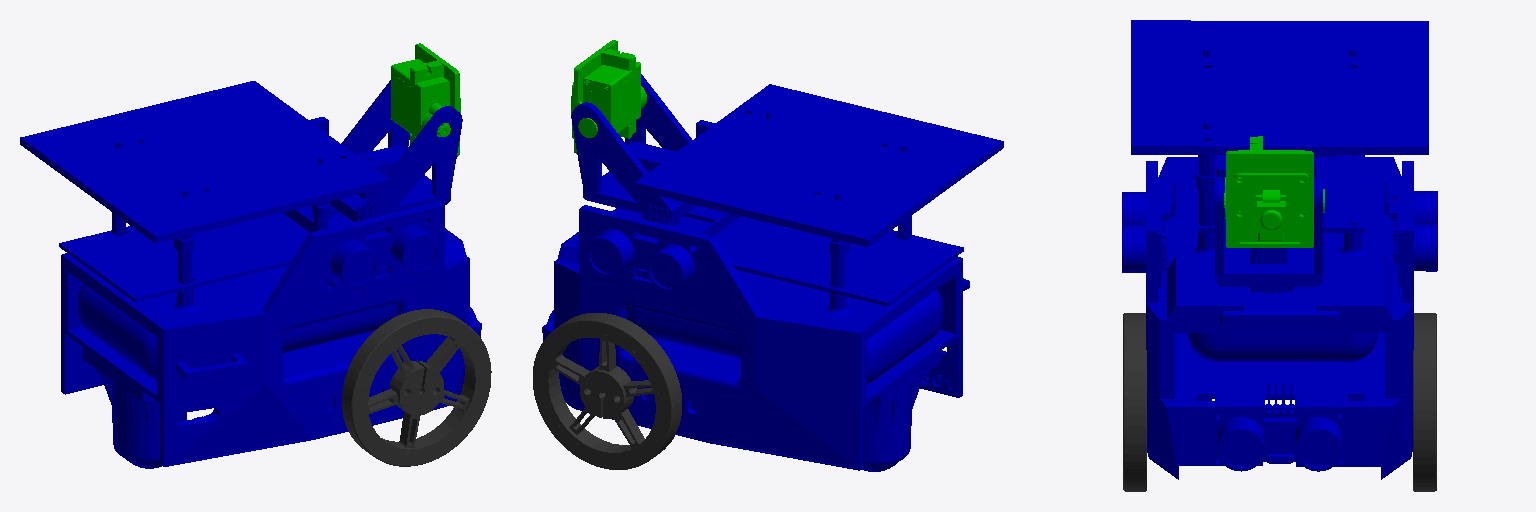
The robot description file, URDF, robot "raspuma":
<?xml version="1.0" encoding="utf-8"?>
<!-- This URDF was automatically created by SolidWorks to URDF Exporter! Originally created by [author] ([email redacted]) 
     Commit Version: 1.6.0-1-g15f4949  Build Version: 1.6.7594.29634
     For more information, please see http://wiki.ros.org/sw_urdf_exporter -->
<robot
  name="raspuma">

  <link name="basefoot_print" />

  <joint name="basefoot_print_to_base_link_joint" type="fixed">
    <parent link="basefoot_print"/>
    <child link="base_link"/>
    <origin xyz="0.0 0.0 0.03" rpy="0.0 0.0 0.0"/>
  </joint>
  
  <link
    name="base_link">
    <inertial>
      <origin
        xyz="0.0 0.0 0.0"
        rpy="0 0 0" />
      <mass
        value="0.46603" />
      <inertia
        ixx="0.00051729"
        ixy="4.9118E-07"
        ixz="3.484E-08"
        iyy="0.00069099"
        iyz="-3.9114E-06"
        izz="0.00031881" />
    </inertial>
    <visual>
      <origin
        xyz="-0.27 0.013 0"
        rpy="0 0 1.57" />
      <geometry>
        <mesh
          filename="package://raspuma_description/meshes/base_link.STL" />
      </geometry>
      <material
        name="Blue">
        <color
          rgba="0 0 0.8 1" />
      </material>
    </visual>
    <collision>
      <origin
        xyz="0 0 0"
        rpy="0 0 0" />
      <geometry>
        <mesh
          filename="package://raspuma_description/meshes/base_link.STL" />
      </geometry>
    </collision>
  </link>


  <link
    name="right_wheel">
    <inertial>
      <origin
        xyz="0.0 0.0 0.0"
        rpy="0 0 0.0" />
      <mass
        value="0.012327" />
      <inertia
        ixx="3.5553E-06"
        ixy="-1.4437E-19"
        ixz="-9.4595E-19"
        iyy="3.5532E-06"
        iyz="-7.3105E-11"
        izz="6.9784E-06" />
    </inertial>
    <visual>
      <origin
        xyz="0 0 0"
        rpy="0 0 0" />
      <geometry>
        <mesh
          filename="package://raspuma_description/meshes/right_wheel.STL" />
      </geometry>
      <material
        name="grey">
        <color
          rgba="0.25098 0.25098 0.25098 1" />
      </material>
    </visual>
    <collision>
      <origin
        xyz="0 0 0"
        rpy="0 0 0" />
      <geometry>
        <mesh
          filename="package://raspuma_description/meshes/right_wheel.STL" />
      </geometry>
    </collision>
  </link>

  <joint
    name="base_right_to_wheel_joint"
    type="continuous">
    <origin
      xyz="0.055 0.045 -0.03"
      rpy="1.5708 0.0 0.0" />
    <parent
      link="base_link" />
    <child
      link="right_wheel" />
    <axis
      xyz="0 0 1" />
    <limit
      effort="0.08"
      velocity="18" />
  </joint>

  <link
    name="left_wheel">
    <inertial>
      <origin
        xyz="0.0 0.0 0.0"
        rpy="0 0 0" />
      <mass
        value="0.012327" />
      <inertia
        ixx="3.5552E-06"
        ixy="-3.7977E-10"
        ixz="-1.3221E-11"
        iyy="3.5532E-06"
        iyz="-7.19E-11"
        izz="6.9784E-06" />
    </inertial>
    <visual>
      <origin
        xyz="0 0 0"
        rpy="0 0 0" />
      <geometry>
        <mesh
          filename="package://raspuma_description/meshes/left_wheel.STL" />
      </geometry>
      <material
        name="grey">
        <color
          rgba="0.25098 0.25098 0.25098 1" />
      </material>
    </visual>
    <collision>
      <origin
        xyz="0 0 0"
        rpy="0 0 0" />
      <geometry>
        <mesh
          filename="package://raspuma_description/meshes/left_wheel.STL" />
      </geometry>
    </collision>
  </link>

  <joint
    name="base_left_to_wheel_joint"
    type="continuous">
    <origin
      xyz="0.055 -0.045 -0.03"
      rpy="1.5708 0 0.0" />
    <parent
      link="base_link" />
    <child
      link="left_wheel" />
    <axis
      xyz="0 0 1" />
    <limit
      effort="0.08"
      velocity="18" />
  </joint>
  <link
    name="body_cam">
    <inertial>
      <origin
        xyz="0.0077589 -0.00011356 0.014985"
        rpy="0 0 0" />
      <mass
        value="0.015993" />
      <inertia
        ixx="1.8893E-06"
        ixy="-1.7136E-07"
        ixz="-3.8471E-07"
        iyy="2.2804E-06"
        iyz="-3.8442E-07"
        izz="2.667E-06" />
    </inertial>
    <visual>
      <origin
        xyz="0 0 0"
        rpy="0 0 0" />
      <geometry>
        <mesh
          filename="package://raspuma_description/meshes/body_cam.STL" />
      </geometry>
      <material
        name="Blue_1">
        <color
          rgba="0 0 0.8 1" />
      </material>
    </visual>
    <collision>
      <origin
        xyz="0 0 0"
        rpy="0 0 0" />
      <geometry>
        <mesh
          filename="package://raspuma_description/meshes/body_cam.STL" />
      </geometry>
    </collision>
  </link>
  <joint
    name="base_to_body_cam"
    type="revolute">
    <origin
      xyz="0.06  0.0 0.019"
      rpy="0 0 0" />
    <parent
      link="base_link" />
    <child
      link="body_cam" />
    <axis
      xyz="0 0 1" />
    <limit
      lower="-1.57"
      upper="1.57"
      effort="0.176"
      velocity="0.166" />
  </joint>
  <link
    name="camera">
    <inertial>
      <origin
        xyz="0.0028256 0.00019085 0.0036585"
        rpy="0 0 0" />
      <mass
        value="0.011488" />
      <inertia
        ixx="9.9215E-07"
        ixy="2.2492E-08"
        ixz="-7.2374E-09"
        iyy="7.6855E-07"
        iyz="1.3763E-08"
        izz="4.5939E-07" />
    </inertial>
    <visual>
      <origin
        xyz="0 0 0"
        rpy="0 0 0" />
      <geometry>
        <mesh
          filename="package://raspuma_description/meshes/camera.STL" />
      </geometry>
      <material
        name="green">
        <color
          rgba="0 0.75294 0 1" />
      </material>
    </visual>
    <collision>
      <origin
        xyz="0 0 0"
        rpy="0 0 0" />
      <geometry>
        <mesh
          filename="package://raspuma_description/meshes/camera.STL" />
      </geometry>
    </collision>
  </link>
  <joint
    name="body_cam_to_camera"
    type="revolute">
    <origin
      xyz="0.022826 -0.00015 0.038482"
      rpy="0 0 0" />
    <parent
      link="body_cam" />
    <child
      link="camera" />
    <axis
      xyz="0 1 0" />
    <limit
      lower="-1.57"
      upper="1.57"
      effort="0.176"
      velocity="0.166" />
  </joint>
</robot>

--- Facts derived from the render (not from the file) ---
Views: 3 orthographic renders of the robot side by side, from view 1: azimuth 30°, elevation 25°; view 2: azimuth 150°, elevation 25°; view 3: azimuth 270°, elevation 25°.
Model raspuma with 6 links and 5 joints (2 revolute, 2 continuous, 1 fixed), rooted at basefoot_print, posed every joint at zero.
Links seen in each view (by area): view 1: base_link, left_wheel, body_cam, camera; view 2: base_link, right_wheel, body_cam, camera; view 3: base_link, camera, body_cam, right_wheel, left_wheel.
Boxes of the visible links, x1=… form: base_link: x1=20, y1=81, x2=481, y2=468; left_wheel: x1=342, y1=309, x2=491, y2=466; body_cam: x1=329, y1=80, x2=462, y2=221; camera: x1=391, y1=43, x2=460, y2=156; base_link: x1=542, y1=84, x2=1003, y2=471; right_wheel: x1=533, y1=313, x2=681, y2=469; body_cam: x1=571, y1=74, x2=697, y2=226; camera: x1=571, y1=40, x2=646, y2=153; base_link: x1=1122, y1=20, x2=1437, y2=479; camera: x1=1224, y1=136, x2=1324, y2=247; body_cam: x1=1215, y1=177, x2=1322, y2=293; right_wheel: x1=1413, y1=313, x2=1436, y2=491; left_wheel: x1=1123, y1=313, x2=1146, y2=491.
Size in the robot's own frame: 0.1561 by 0.106 by 0.1399 metres.
Meshes: 5 distinct files referenced, 5 mesh visuals loaded (5 binary STL).